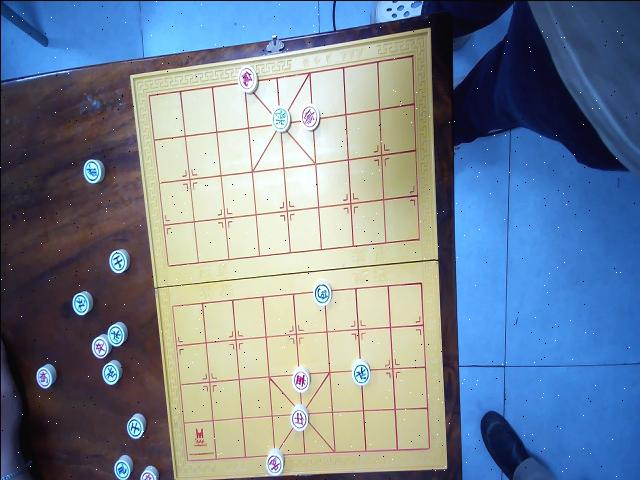piece: (236, 64, 258, 92), (34, 362, 56, 389), (82, 157, 104, 183), (70, 290, 92, 316), (264, 448, 284, 476), (125, 412, 145, 440), (290, 365, 310, 393), (90, 332, 110, 359), (100, 359, 120, 385), (350, 359, 370, 385), (108, 248, 128, 274), (299, 104, 319, 130), (106, 321, 126, 347), (112, 454, 132, 480), (270, 106, 290, 132), (289, 404, 307, 432), (312, 280, 331, 306), (138, 464, 158, 480)
